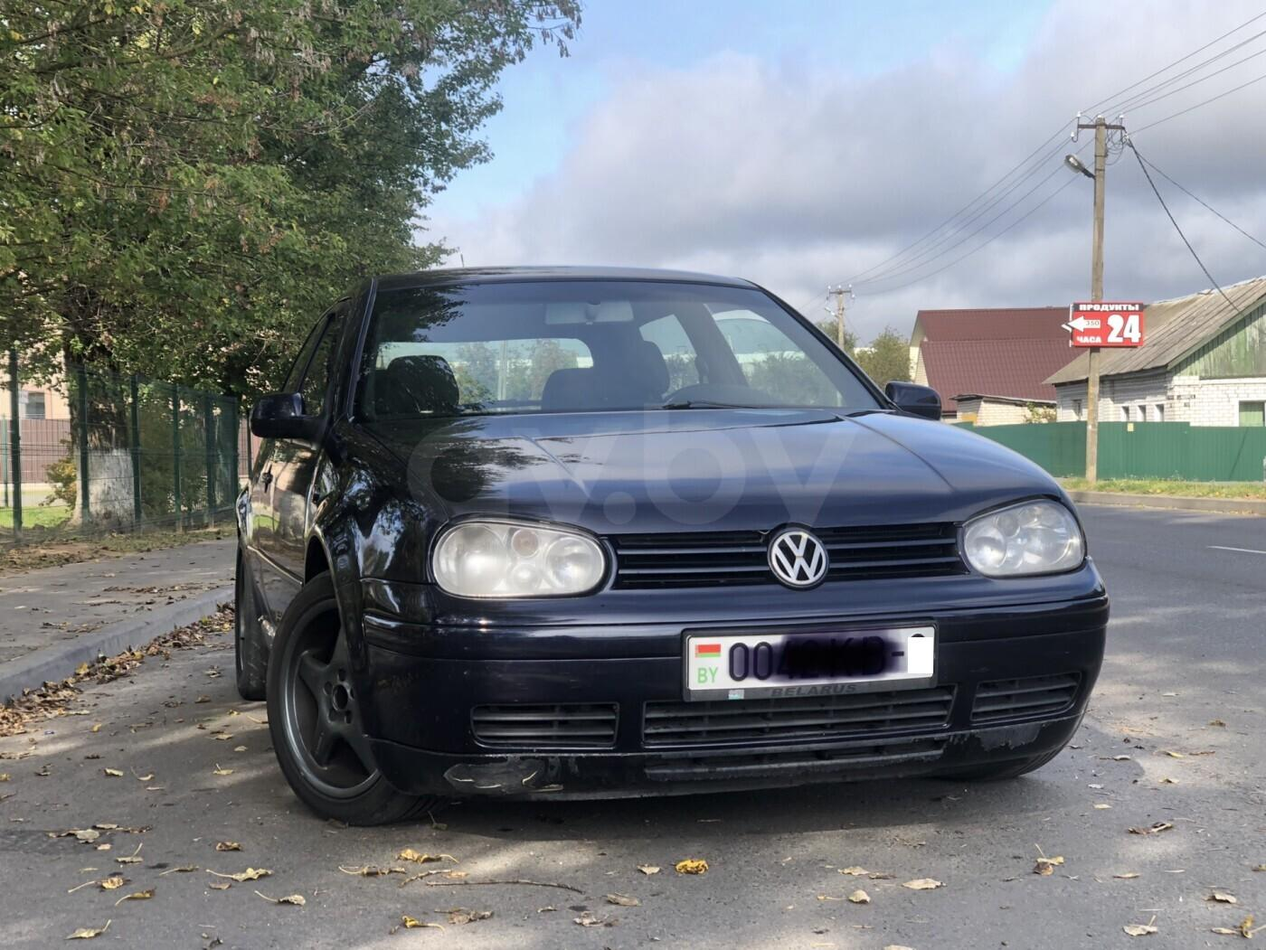Golf_1997-2006: (237, 266, 1110, 828)
